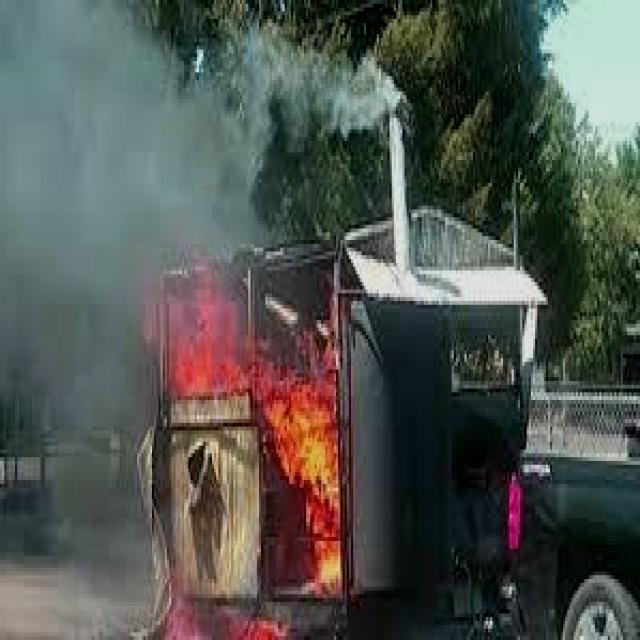fire: (246, 316, 351, 617), (146, 267, 244, 415)
